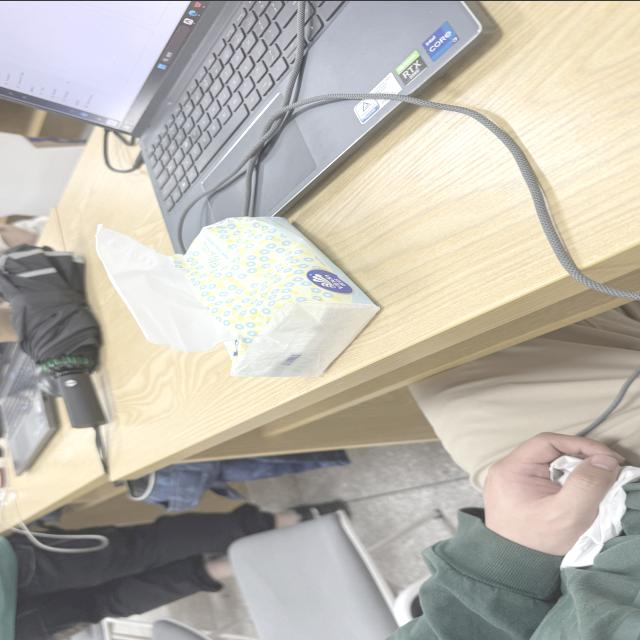tissue: (97, 217, 379, 375), (97, 224, 238, 350), (561, 465, 639, 567)
